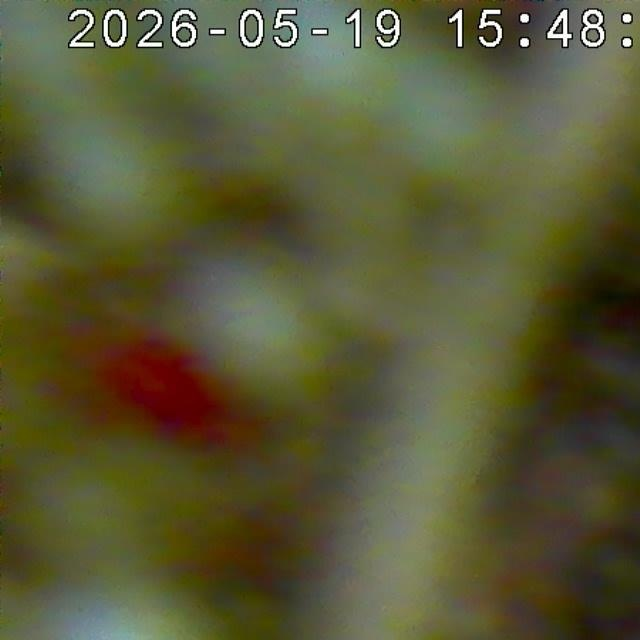SeaGrape: (32, 98, 197, 261), (196, 259, 338, 416)
